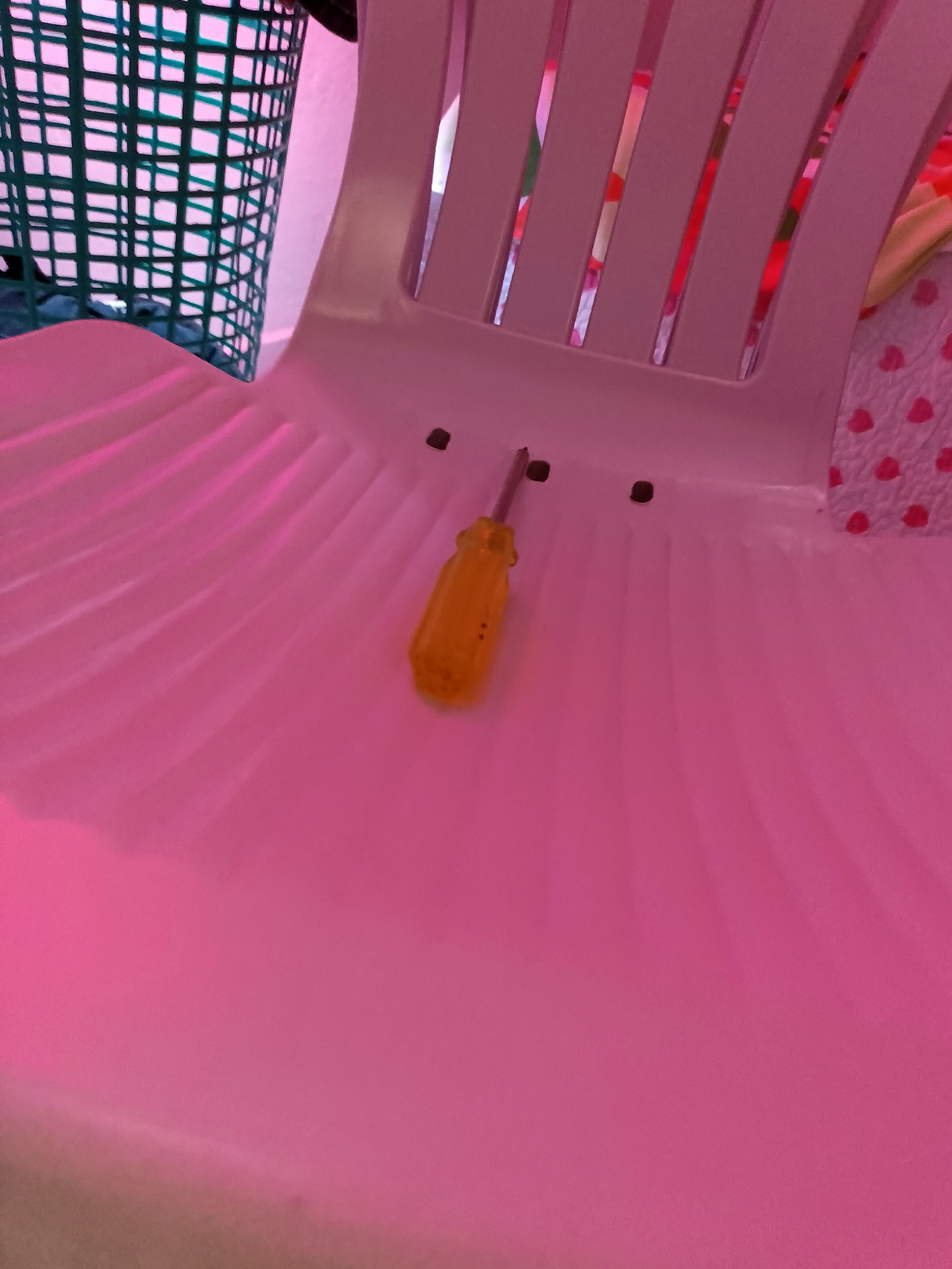Destornillador: (408, 447, 531, 706)
